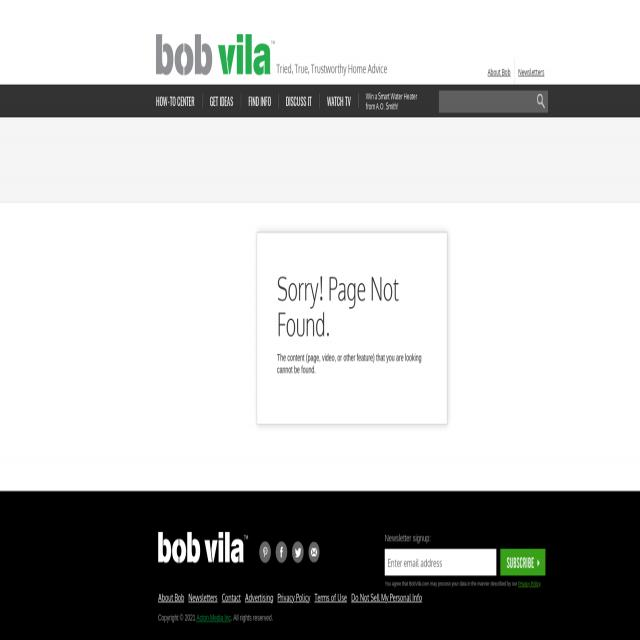button: (156, 34, 275, 76), (155, 532, 245, 563), (358, 91, 426, 112), (500, 549, 546, 575), (156, 93, 202, 108), (278, 93, 320, 108), (316, 93, 356, 108), (202, 93, 240, 108), (240, 93, 278, 108), (292, 542, 304, 563), (308, 542, 320, 563), (276, 542, 287, 563), (260, 542, 271, 562), (535, 93, 546, 112)
field: (385, 548, 496, 575), (438, 90, 547, 112)
